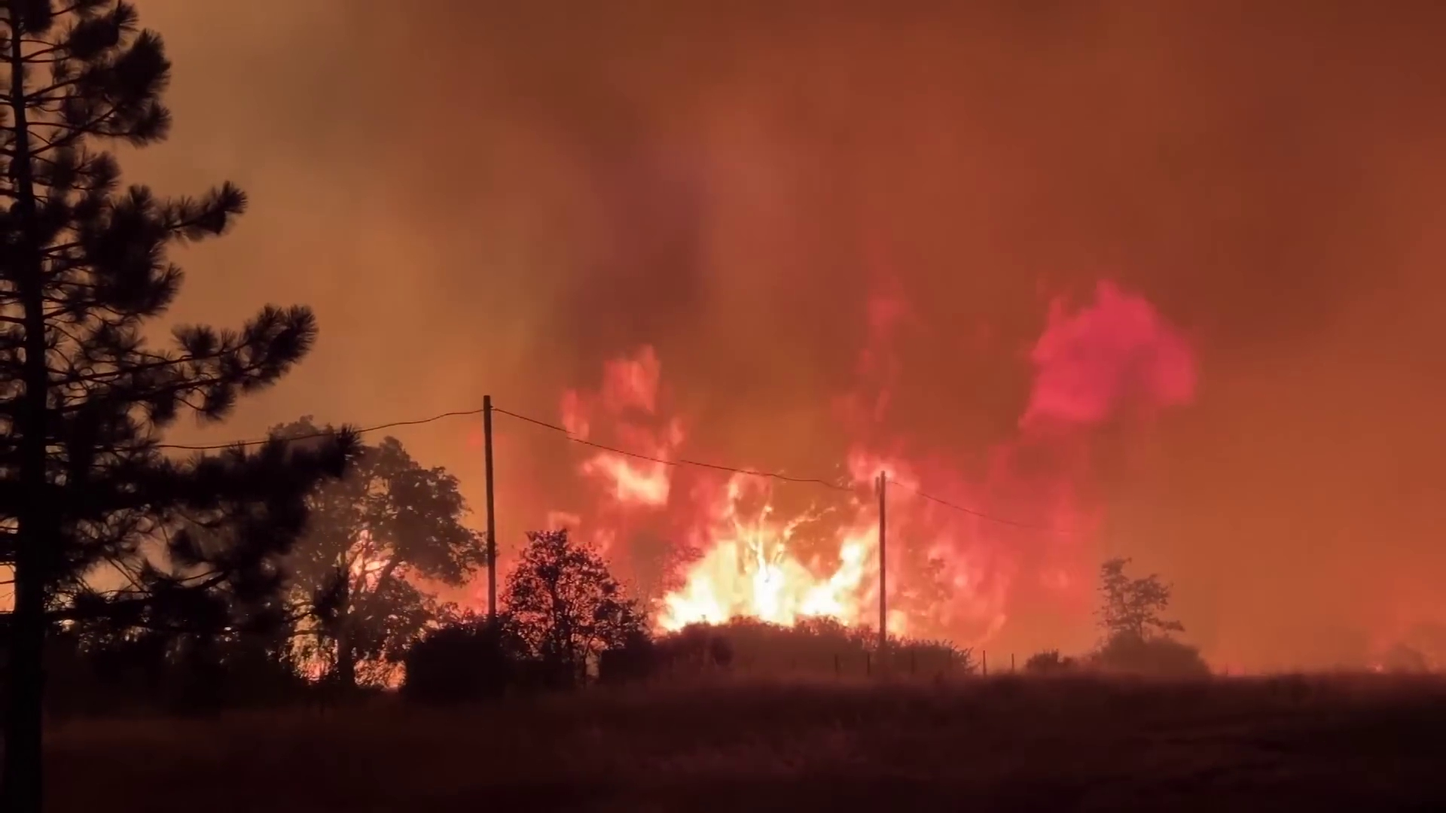forest_fire: (539, 346, 1078, 641)
